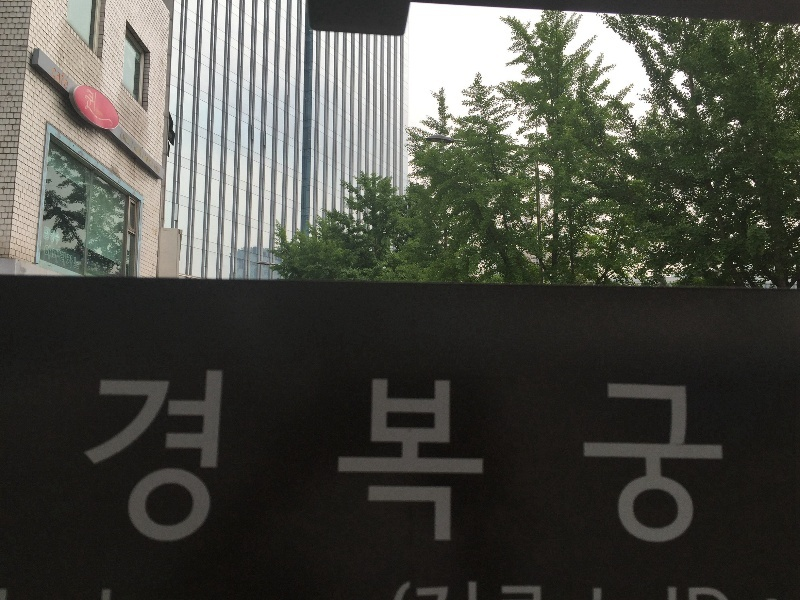text: (113, 369, 128, 544), (129, 369, 144, 544), (145, 369, 160, 544), (161, 369, 176, 544), (177, 369, 192, 544), (193, 369, 208, 544), (209, 369, 224, 544), (225, 369, 240, 544), (241, 369, 256, 544), (257, 369, 272, 544), (273, 369, 288, 544), (289, 369, 304, 544), (305, 369, 320, 544), (321, 369, 336, 544), (337, 369, 352, 544), (353, 369, 368, 544), (369, 369, 384, 544), (385, 369, 400, 544), (401, 369, 416, 544), (417, 369, 432, 544), (433, 369, 448, 544), (449, 369, 464, 544), (465, 369, 480, 544), (481, 369, 496, 544), (497, 369, 512, 544), (513, 369, 528, 544), (529, 369, 544, 544), (545, 369, 560, 544), (561, 369, 576, 544), (577, 369, 592, 544), (593, 369, 608, 544), (609, 369, 624, 544), (625, 369, 640, 544), (641, 369, 656, 544), (657, 369, 672, 544), (673, 369, 688, 544), (689, 369, 704, 544), (705, 369, 720, 544), (721, 369, 732, 544), (102, 369, 112, 544), (97, 89, 112, 128), (65, 244, 81, 271), (49, 244, 64, 271), (87, 89, 96, 128), (51, 68, 64, 90), (417, 581, 432, 600), (433, 581, 448, 600), (449, 581, 464, 600), (465, 581, 480, 600), (481, 581, 496, 600), (497, 581, 512, 600), (513, 581, 528, 600), (529, 581, 544, 600), (545, 581, 560, 600), (561, 581, 576, 600), (577, 581, 592, 600), (593, 581, 608, 600), (609, 581, 624, 600), (625, 581, 640, 600), (641, 581, 656, 600), (657, 581, 672, 600), (673, 581, 688, 600), (689, 581, 704, 600), (705, 581, 720, 600), (49, 226, 61, 247), (404, 581, 416, 600), (97, 107, 112, 118), (721, 581, 728, 600), (65, 68, 71, 90), (146, 156, 160, 165), (135, 146, 144, 158), (121, 132, 128, 147), (44, 226, 48, 247), (154, 164, 160, 173), (46, 244, 48, 271), (113, 89, 114, 128), (129, 132, 131, 147)
